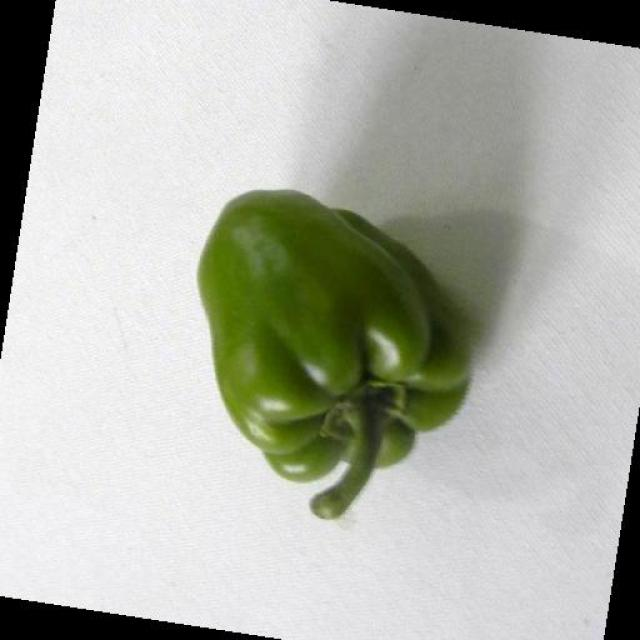Fresh_Capsicum: (189, 234, 492, 478)
